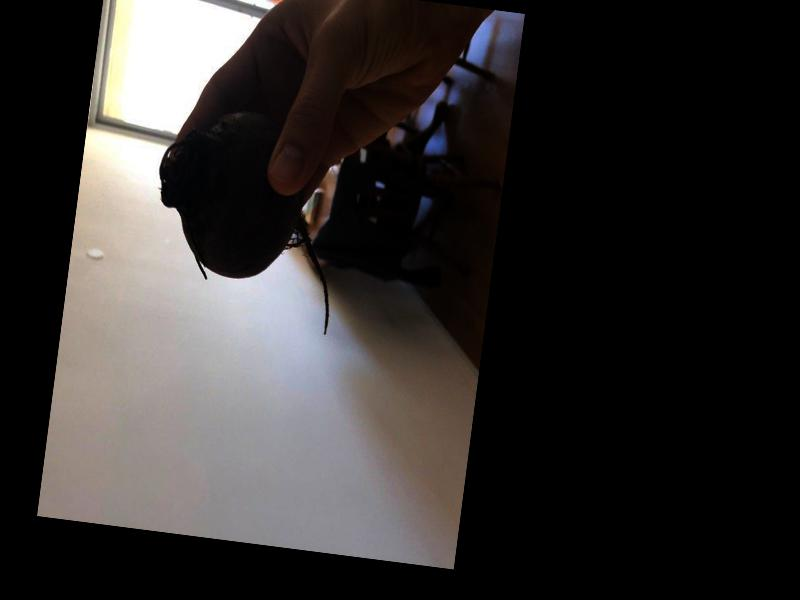Beet: (141, 101, 353, 334)
